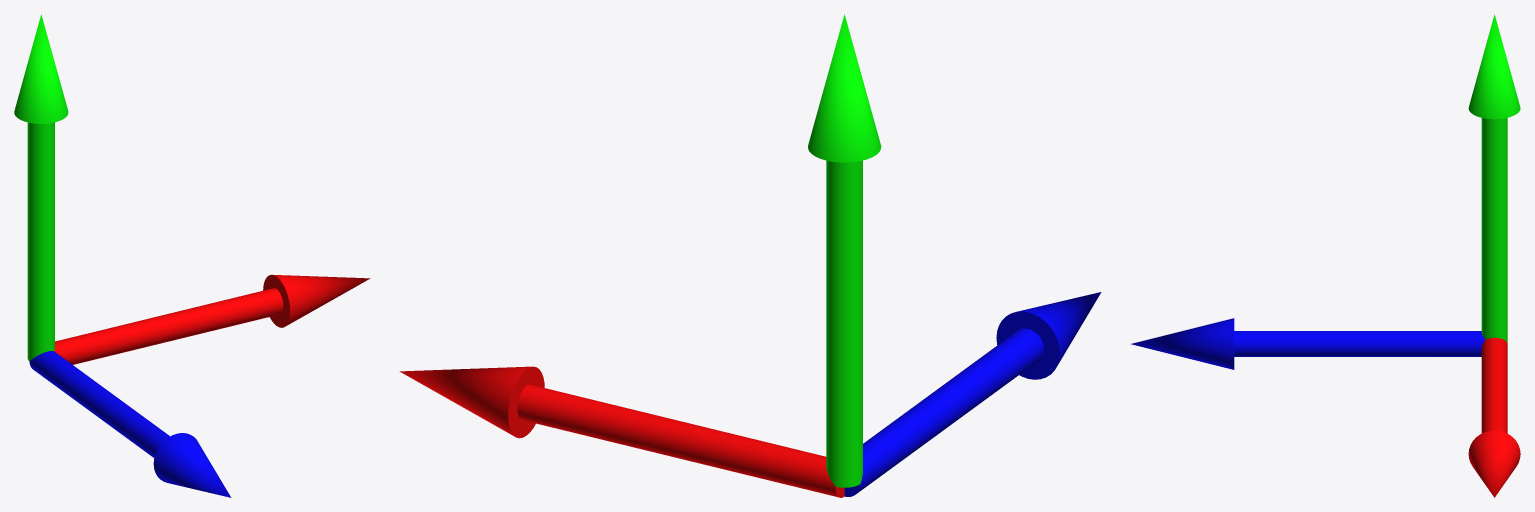
File: Gizmo.obj
The picture shows the model from 3 angles, left to right: view 1: azimuth 30°, elevation 25°; view 2: azimuth 150°, elevation 25°; view 3: azimuth 270°, elevation 25°; orthographic projection. The views are drawn at different scales.
Visible parts, largest first — view 1: Yaxis, Xaxis, Zaxis; view 2: Yaxis, Xaxis, Zaxis; view 3: Zaxis, Yaxis, Xaxis.
Part boxes in pixels (x1,y1,x2,y2): Yaxis: [14, 14, 68, 361]; Xaxis: [54, 274, 370, 364]; Zaxis: [29, 351, 231, 497]; Yaxis: [808, 14, 881, 487]; Xaxis: [399, 366, 844, 497]; Zaxis: [844, 292, 1101, 496]; Zaxis: [1131, 318, 1485, 369]; Yaxis: [1468, 14, 1520, 343]; Xaxis: [1468, 337, 1520, 497].
Size of the model in its own units: 1.12 by 1.12 by 1.12.
